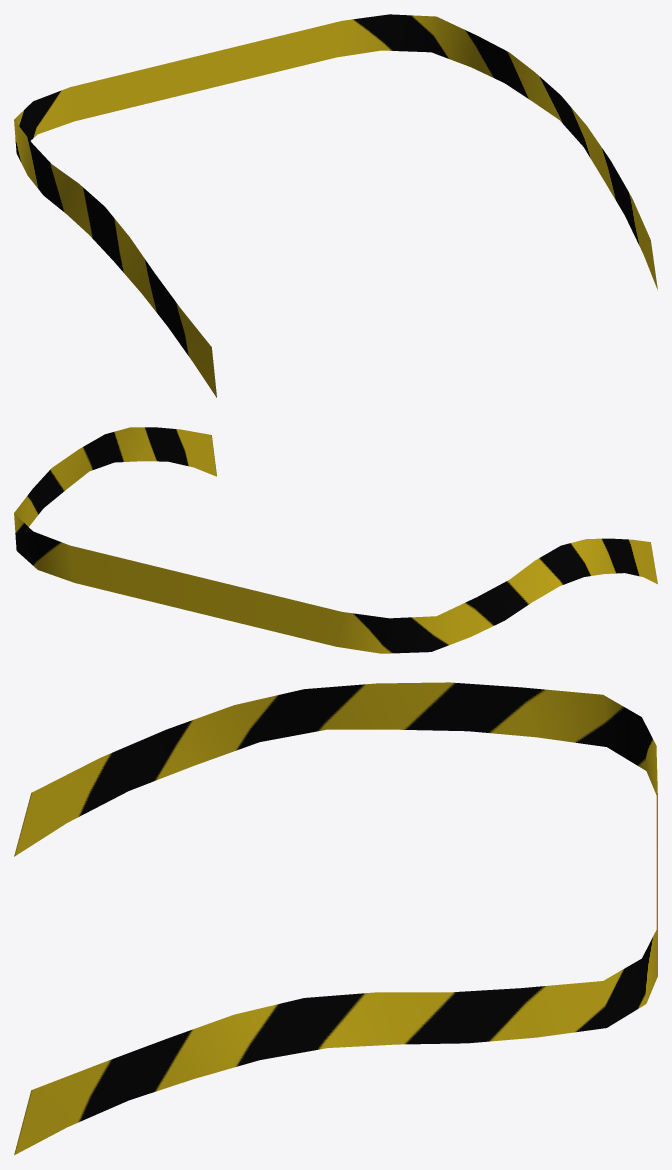
The model's file is Car_13_Decals.fbx.
3 views of the same model, one above another, from view 1: azimuth 30°, elevation 25°; view 2: azimuth 150°, elevation 25°; view 3: azimuth 270°, elevation 25° (orthographic). The views are drawn at different scales.
Parts seen in each view (by area): view 1: Car_13_Decals; view 2: Car_13_Decals; view 3: Car_13_Decals.
Boxes of the visible parts, x1,y1,x2,y2 form: Car_13_Decals: (14,14,657,397); Car_13_Decals: (14,427,657,653); Car_13_Decals: (14,682,657,1155).
Size of the model in its own units: 164 by 140 by 40.64.
